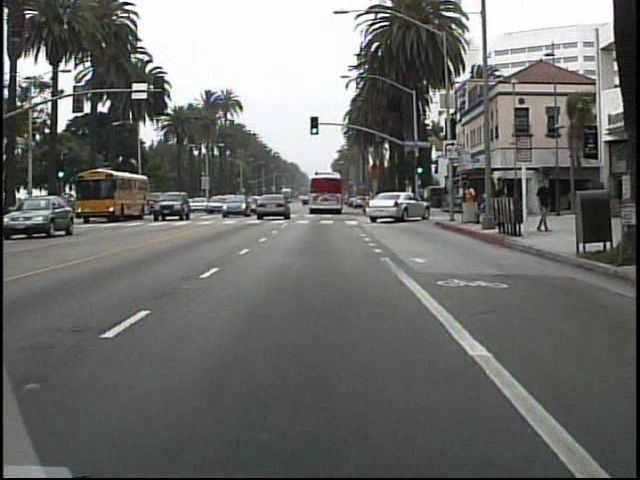person: (532, 175, 555, 234), (492, 179, 508, 226), (460, 182, 478, 223)
